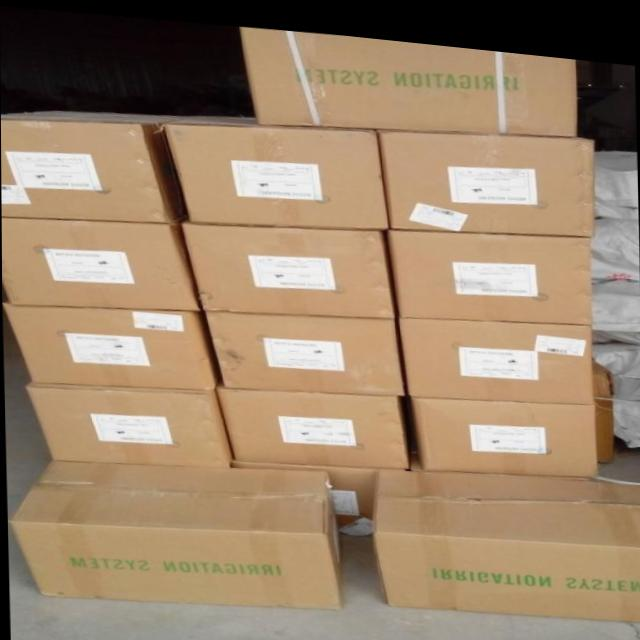box: (9, 459, 342, 601), (369, 462, 640, 608), (239, 23, 579, 125), (167, 111, 387, 220), (379, 122, 594, 222), (1, 109, 189, 220), (182, 218, 395, 309), (385, 223, 591, 312), (1, 219, 204, 305), (4, 304, 211, 384), (396, 308, 594, 391), (25, 382, 232, 459), (204, 307, 401, 386), (216, 385, 408, 461), (412, 390, 596, 464), (230, 457, 378, 518)
